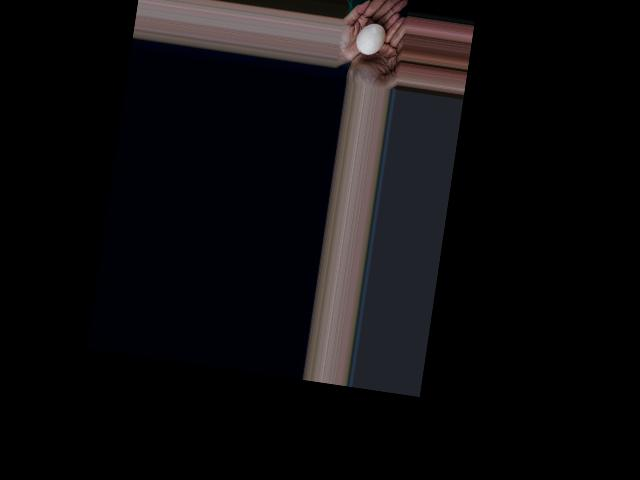egg: (355, 21, 386, 56)
